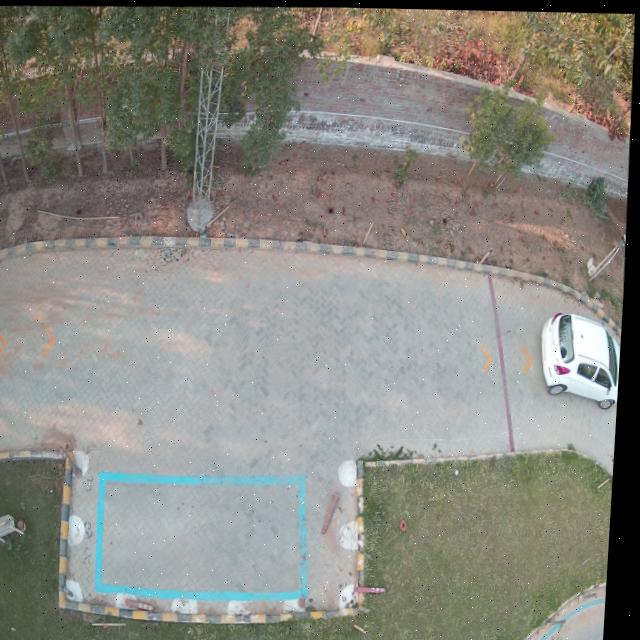car: (542, 310, 625, 406)
